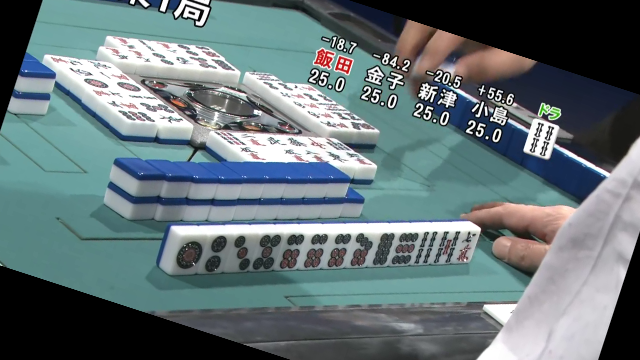Tehai: (166, 213, 477, 275)
